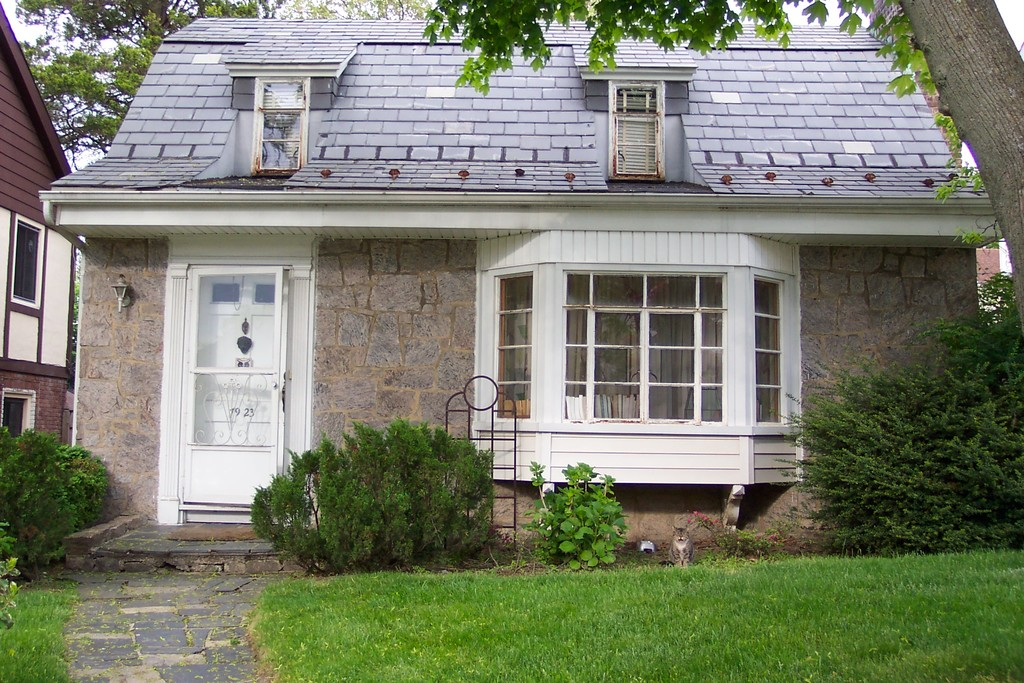Tree: (419, 0, 1024, 338), (14, 0, 429, 172)
